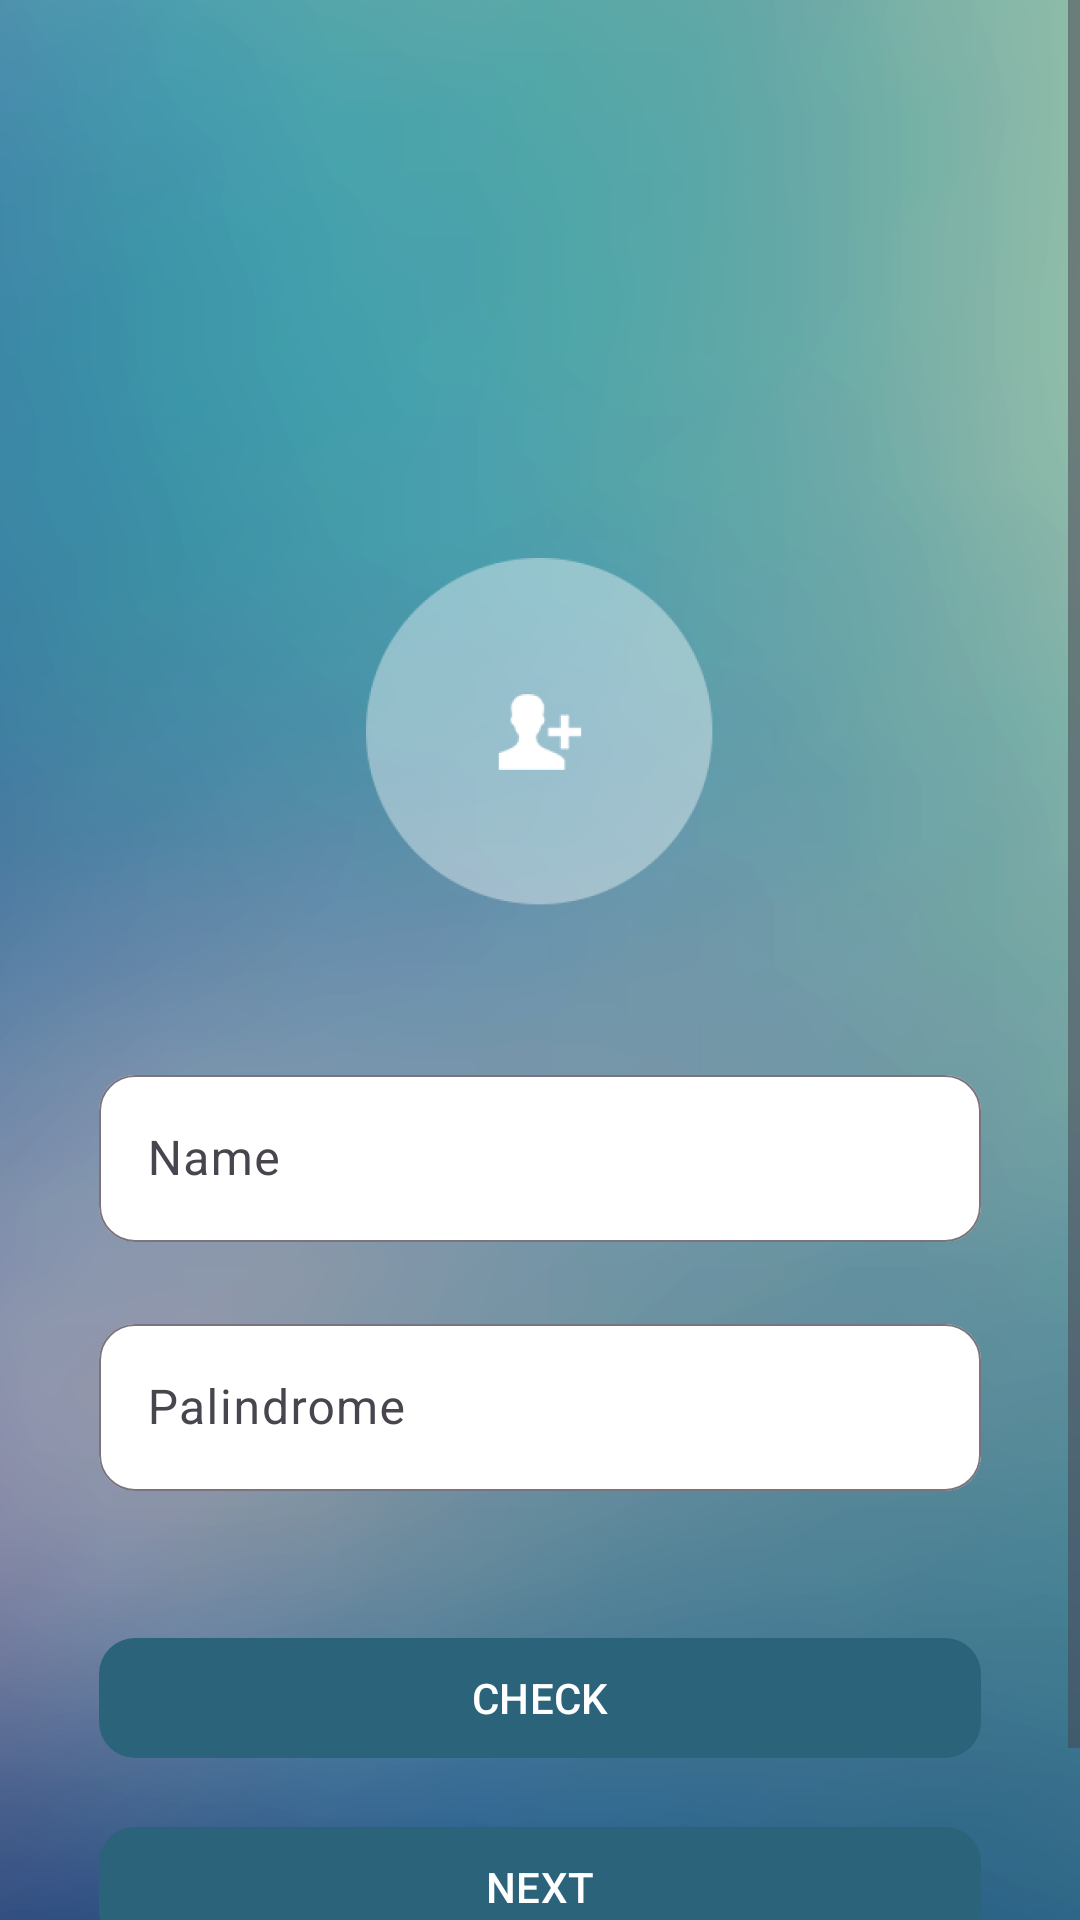

Icon bounding boxes for this 1080×1920 phone screenshot, format (x1, y1, x2, y2):
Image for adding people: (366, 558, 712, 904)
